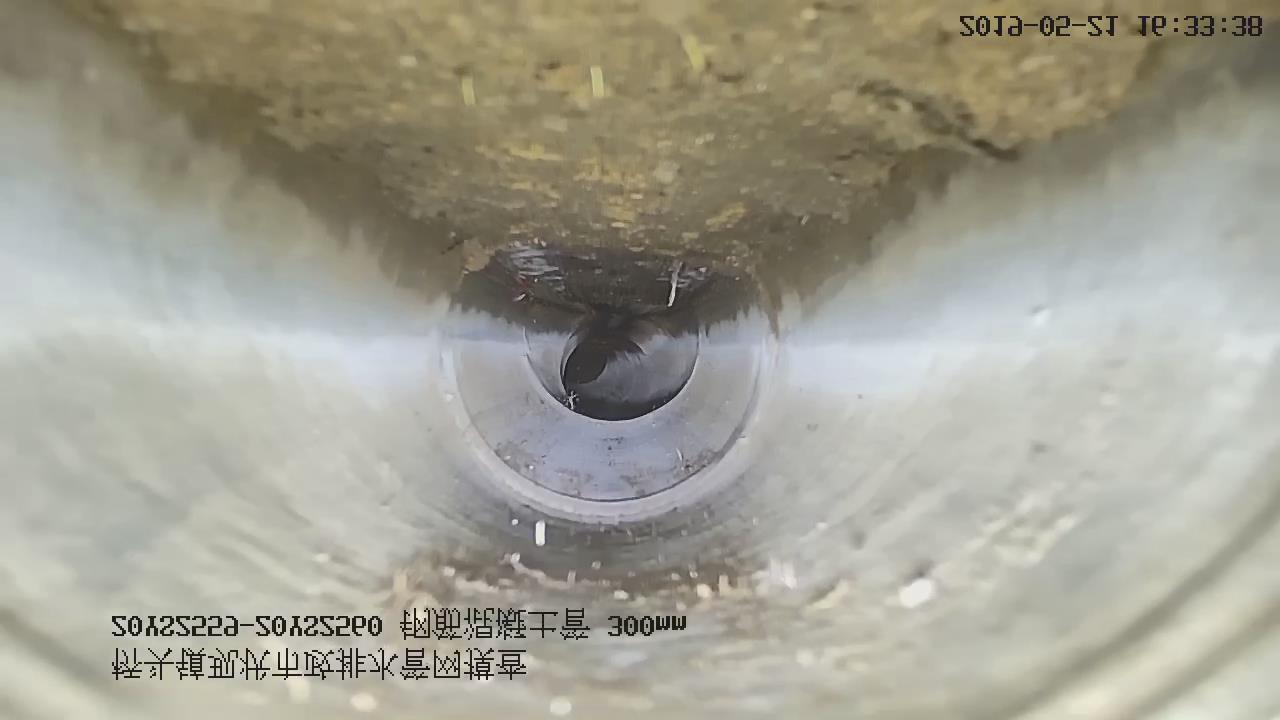CJ: (100, 1, 1146, 313)
CKTJ: (438, 336, 780, 525)
